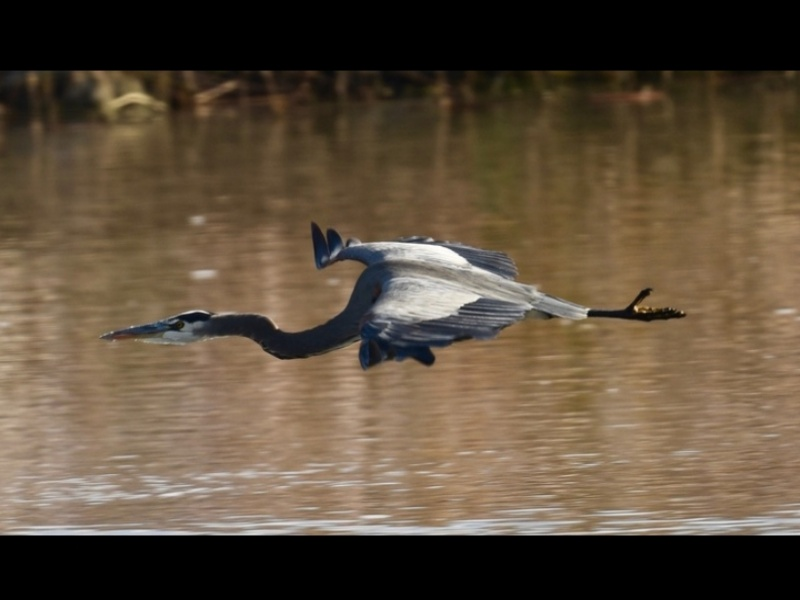heron: (97, 228, 686, 370)
